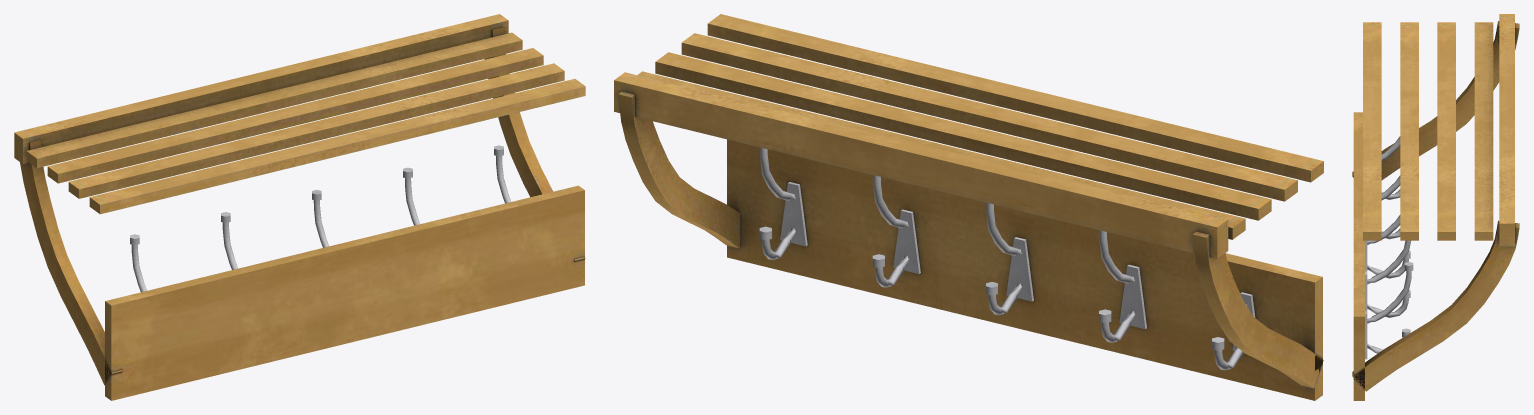
The model's file is hall_shelf_hooks_lod1_web.glb.
3 views of the same model, side by side, from view 1: azimuth 30°, elevation 25°; view 2: azimuth 150°, elevation 25°; view 3: azimuth 270°, elevation 25° (orthographic). The views are drawn at different scales.
Parts seen in each view (by area): view 1: HallShelfHooks_Body, Chrome_Hooks; view 2: HallShelfHooks_Body, Chrome_Hooks; view 3: HallShelfHooks_Body, Chrome_Hooks.
Boxes of the visible parts, x1,y1,x2,y2 form: HallShelfHooks_Body: (14, 14, 585, 400); Chrome_Hooks: (130, 145, 511, 292); HallShelfHooks_Body: (614, 14, 1323, 400); Chrome_Hooks: (759, 147, 1255, 370); HallShelfHooks_Body: (1352, 14, 1519, 400); Chrome_Hooks: (1365, 136, 1413, 359).
Size of the model in its own units: 0.8 by 0.32 by 0.2693.
2 materials, 2 textured.
